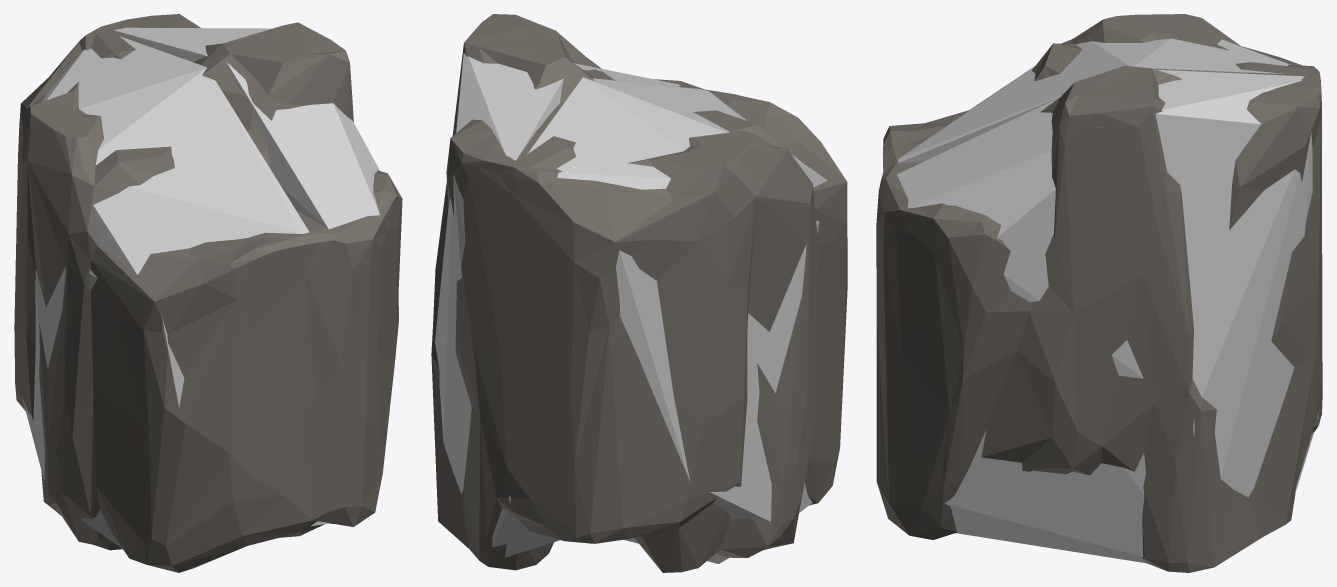
Rendered from SM_Env_Rock_Cliff_02.fbx.
3 views of the same model, side by side, from view 1: azimuth 30°, elevation 25°; view 2: azimuth 150°, elevation 25°; view 3: azimuth 270°, elevation 25° (orthographic). The views are drawn at different scales.
Parts seen in each view (by area): view 1: SM_Env_Rock_Cliff_02, SM_Env_Rock_Cliff_02_ConvexHulls; view 2: SM_Env_Rock_Cliff_02, SM_Env_Rock_Cliff_02_ConvexHulls; view 3: SM_Env_Rock_Cliff_02, SM_Env_Rock_Cliff_02_ConvexHulls.
Boxes of the visible parts, bbox=[...] form: SM_Env_Rock_Cliff_02: bbox=[14, 14, 402, 572]; SM_Env_Rock_Cliff_02_ConvexHulls: bbox=[22, 27, 379, 548]; SM_Env_Rock_Cliff_02: bbox=[431, 14, 847, 572]; SM_Env_Rock_Cliff_02_ConvexHulls: bbox=[435, 52, 827, 563]; SM_Env_Rock_Cliff_02: bbox=[876, 14, 1322, 572]; SM_Env_Rock_Cliff_02_ConvexHulls: bbox=[897, 38, 1317, 563].
Size of the model in its own units: 1281 by 1505 by 1847.
2 materials, 1 textured.
